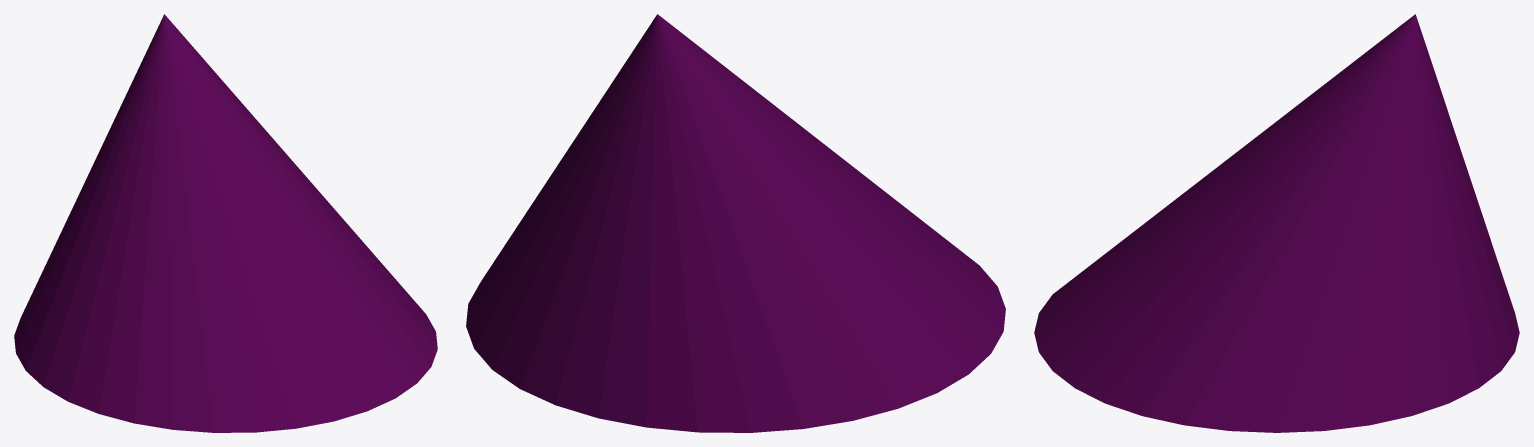
File: seed.fbx
3 renders of one model, left to right at view 1: azimuth 30°, elevation 25°; view 2: azimuth 150°, elevation 25°; view 3: azimuth 270°, elevation 25°, orthographic. The views are drawn at different scales.
Parts seen in each view (by area): view 1: ModelA; view 2: ModelA; view 3: ModelA.
Part boxes in pixels (<box>): ModelA: <box>14,14,437,432</box>; ModelA: <box>466,14,1005,432</box>; ModelA: <box>1034,14,1519,432</box>.
Size of the model in its own units: 60.16 by 44.61 by 61.58.
